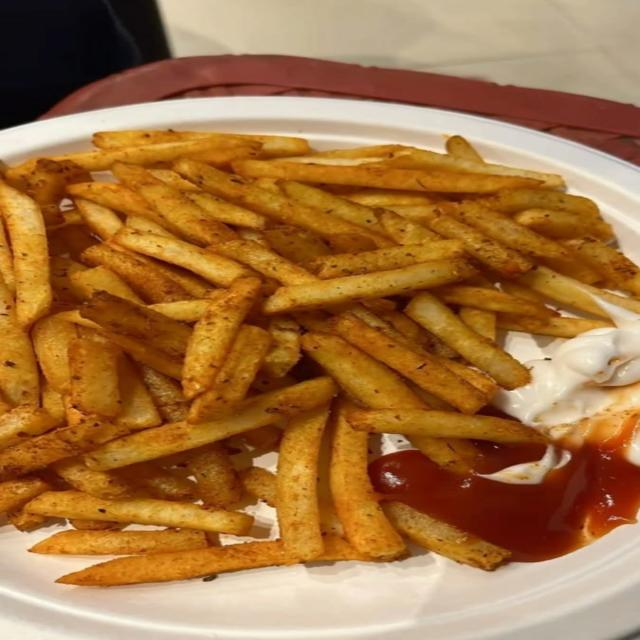potato fries: (0, 131, 639, 586), (87, 378, 335, 469), (406, 293, 530, 388), (330, 404, 404, 559), (263, 260, 475, 314), (233, 160, 543, 193), (26, 491, 253, 534), (183, 278, 259, 398), (384, 501, 511, 570), (188, 325, 272, 423), (276, 407, 329, 561), (113, 227, 251, 286), (0, 181, 52, 327), (387, 150, 564, 188), (348, 410, 547, 443), (81, 244, 189, 302), (306, 240, 463, 279), (0, 278, 39, 405), (29, 529, 208, 555), (187, 443, 242, 507), (446, 135, 483, 163)
